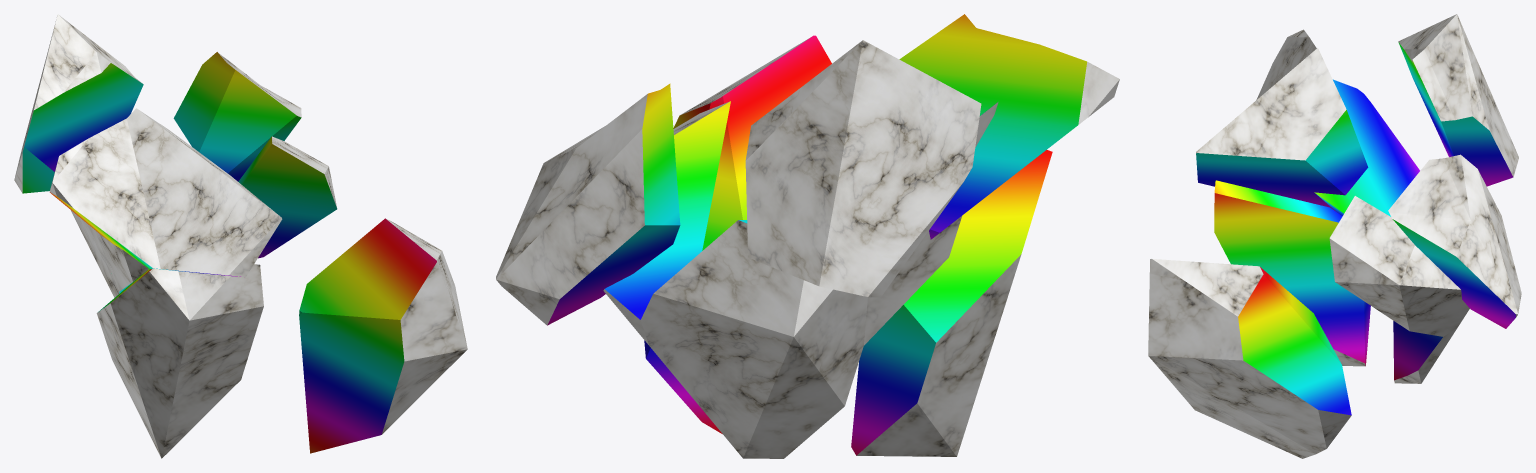
The model's file is rocks.dae.
3 views of the same model, side by side, from view 1: azimuth 30°, elevation 25°; view 2: azimuth 150°, elevation 25°; view 3: azimuth 270°, elevation 25° (orthographic). The views are drawn at different scales.
Parts seen in each view (by area): view 1: Pieces_5, Pieces_4, Pieces_6, Pieces_2, Pieces_7, Pieces_8, Pieces_3, Pieces_1; view 2: Pieces_2, Pieces_1, Pieces_6, Pieces_7, Pieces_4, Pieces_5, Pieces_8, Pieces_3; view 3: Pieces_5, Pieces_4, Pieces_6, Pieces_7, Pieces_8, Pieces_2, Pieces_3, Pieces_1.
Part boxes in pixels (bbox=[...]): Pieces_5: bbox=[299, 218, 467, 453]; Pieces_4: bbox=[49, 108, 282, 277]; Pieces_6: bbox=[96, 264, 263, 458]; Pieces_2: bbox=[14, 14, 143, 193]; Pieces_7: bbox=[173, 52, 301, 181]; Pieces_8: bbox=[238, 136, 337, 258]; Pieces_3: bbox=[95, 230, 148, 291]; Pieces_1: bbox=[71, 210, 132, 297]; Pieces_2: bbox=[745, 40, 981, 297]; Pieces_1: bbox=[640, 220, 867, 458]; Pieces_6: bbox=[851, 150, 1052, 456]; Pieces_7: bbox=[496, 83, 680, 325]; Pieces_4: bbox=[899, 14, 1119, 239]; Pieces_5: bbox=[644, 35, 831, 433]; Pieces_8: bbox=[603, 101, 730, 344]; Pieces_3: bbox=[864, 102, 998, 345]; Pieces_5: bbox=[1148, 259, 1351, 458]; Pieces_4: bbox=[1196, 29, 1368, 211]; Pieces_6: bbox=[1214, 180, 1370, 366]; Pieces_7: bbox=[1388, 154, 1521, 328]; Pieces_8: bbox=[1329, 196, 1469, 336]; Pieces_2: bbox=[1398, 14, 1518, 186]; Pieces_3: bbox=[1314, 79, 1419, 216]; Pieces_1: bbox=[1393, 321, 1457, 383].
Size of the model in its own units: 368 by 388 by 352.
2 materials, 2 textured.
